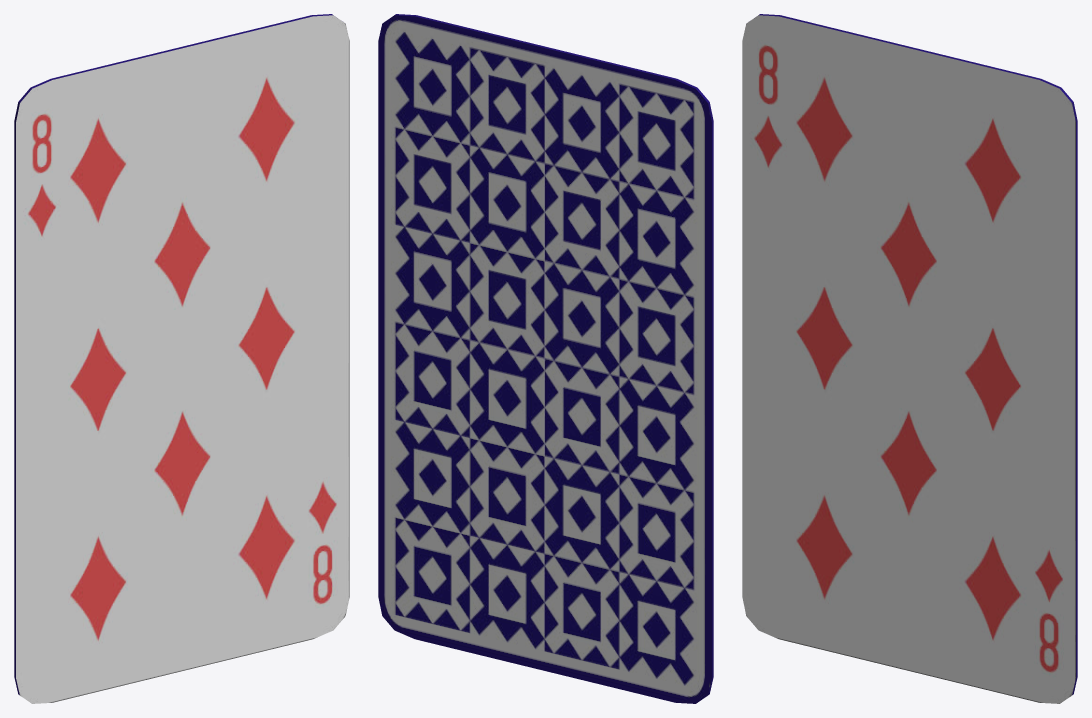
3 views of the same model, side by side, from view 1: azimuth 30°, elevation 25°; view 2: azimuth 150°, elevation 25°; view 3: azimuth 330°, elevation 25° (orthographic).
Parts seen in each view (by area): view 1: Eight of Diamonds; view 2: Eight of Diamonds; view 3: Eight of Diamonds.
Boxes of the visible parts, x1,y1,x2,y2 form: Eight of Diamonds: (14,14,349,703); Eight of Diamonds: (378,14,713,703); Eight of Diamonds: (742,14,1077,703).
Bounding box in the file's own units: 1.43 × 2.54 × 0.0125.
Materials: 3 (3 with a texture image).
